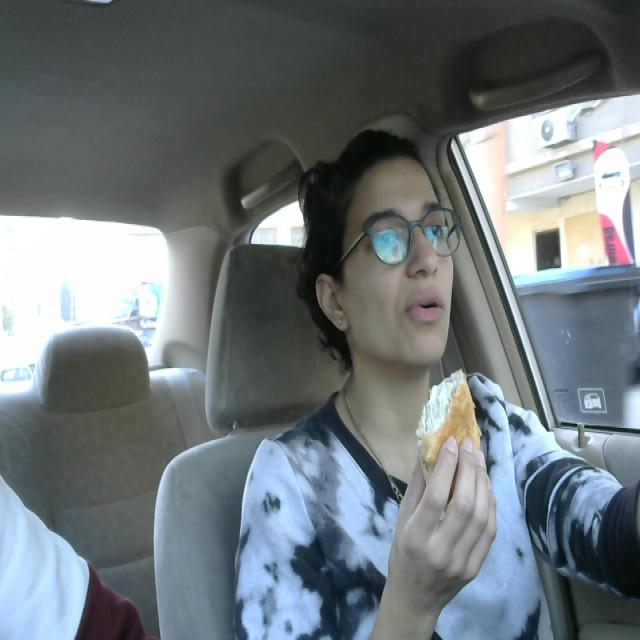eating: (410, 369, 490, 511)
